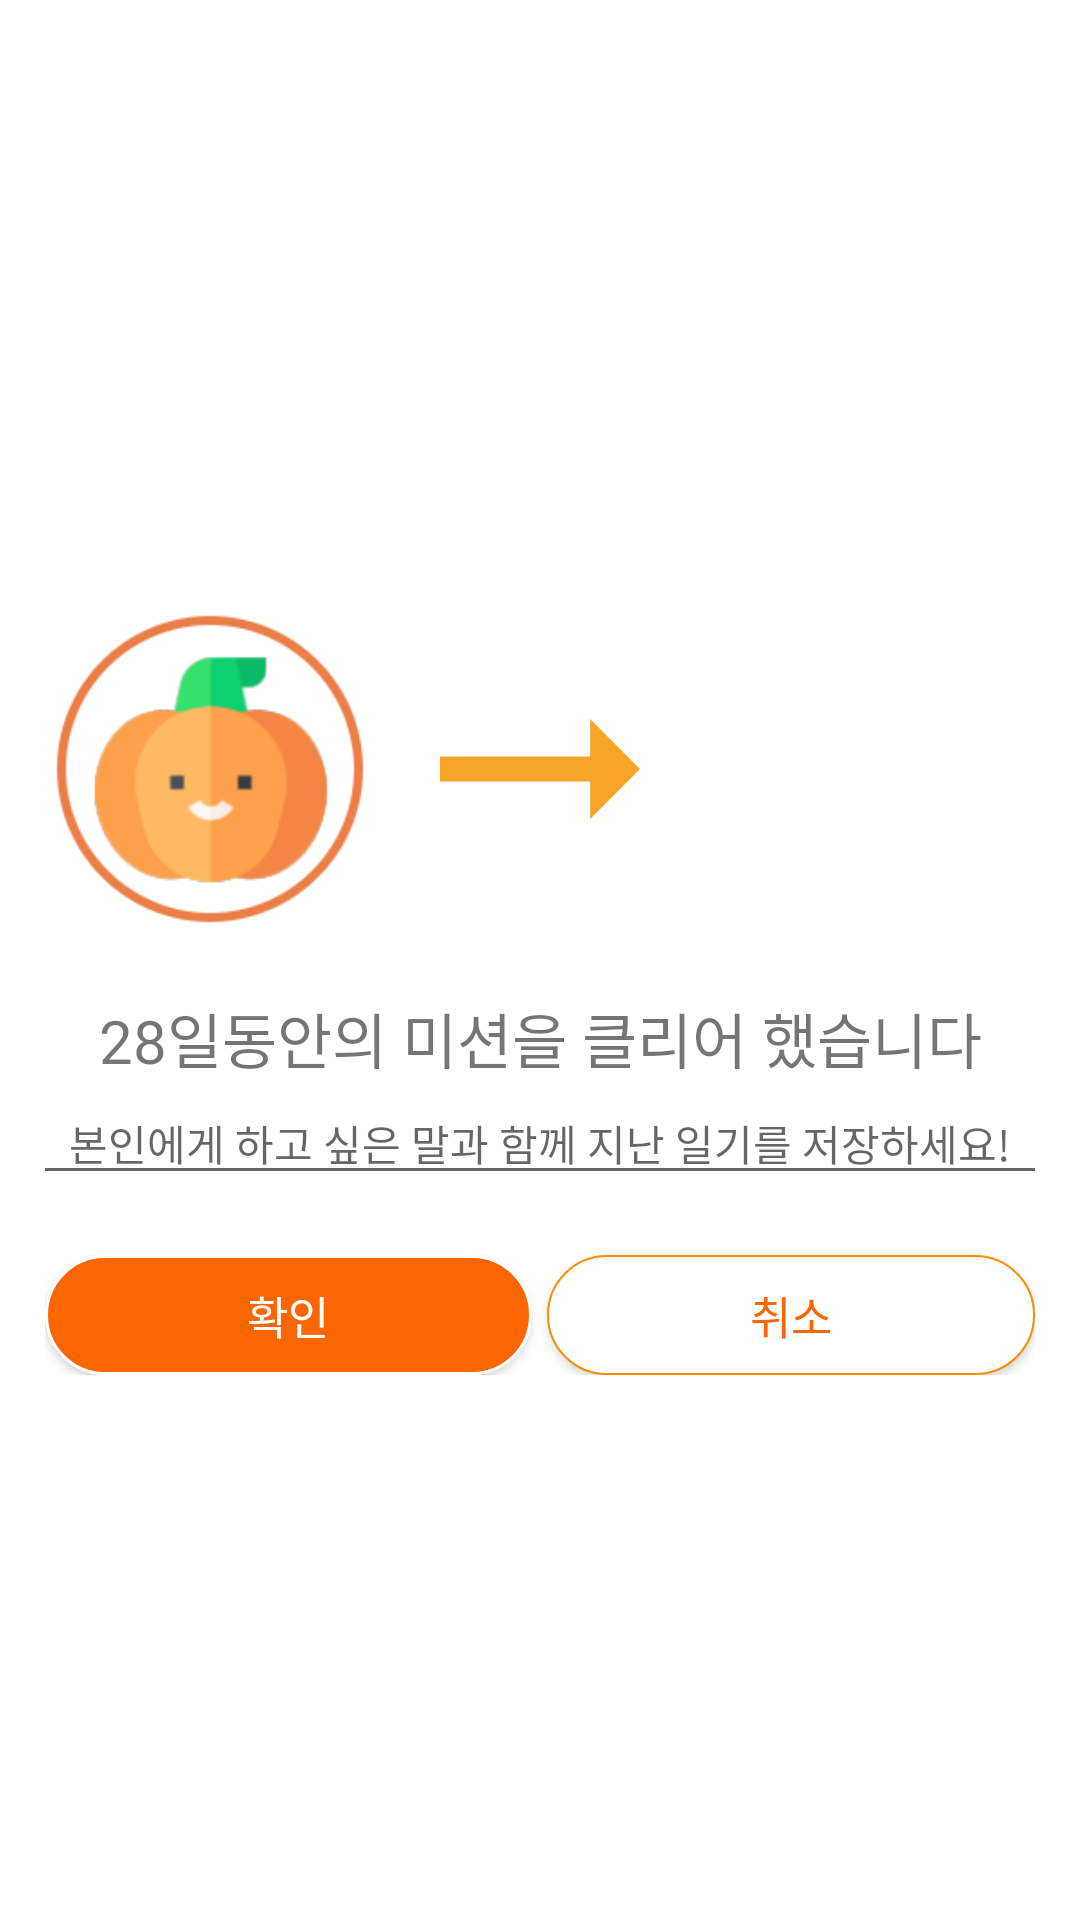

Icon bounding boxes for this 1080 x 1920 phone screenshot, format (x1,y1,x2,y2):
arrow right: (440,719,640,819)
